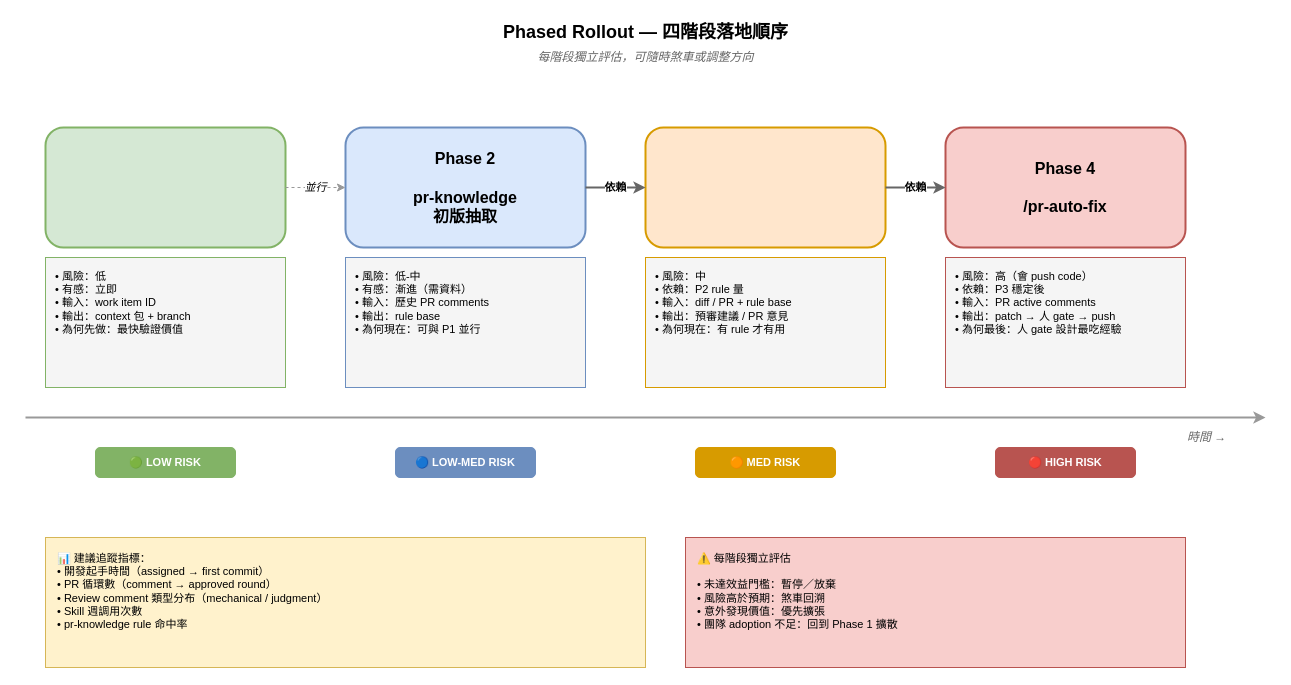
The diagram is 1291 pixels wide and 685 high, and some of its shapes have lost their labels. Each missing label, with the box of its shape:
Phase 1 /接單: (44, 126, 286, 248)
Phase 3 /pr-review: (644, 126, 886, 248)
